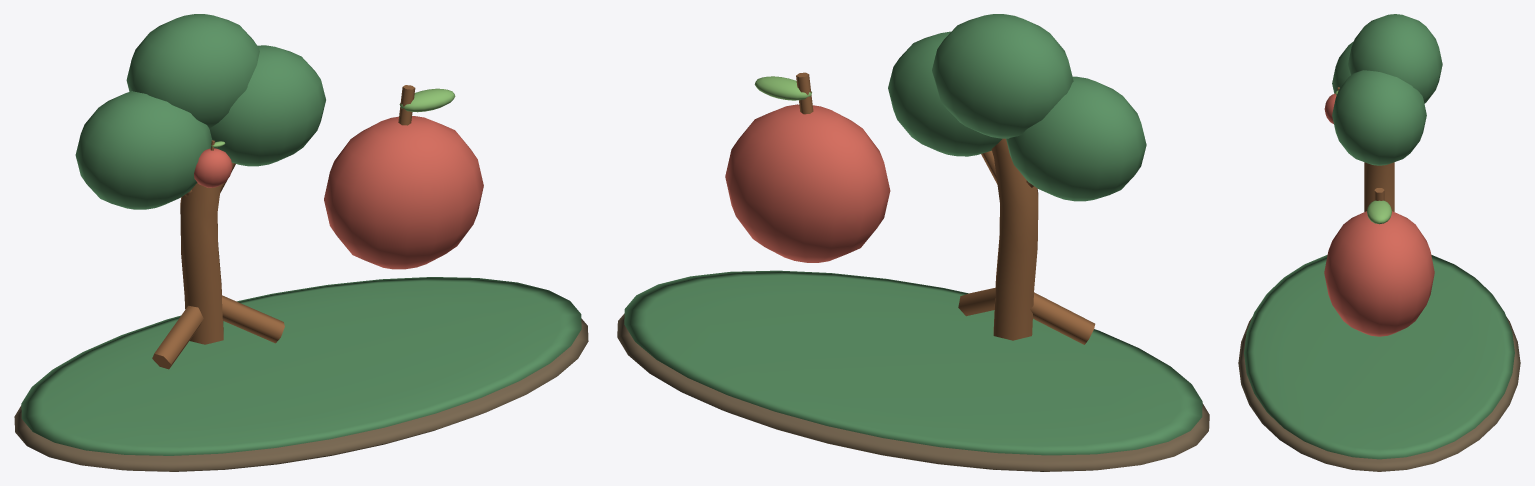
File: apple-fruit.glb
3 views of the same model, side by side, from view 1: azimuth 30°, elevation 25°; view 2: azimuth 150°, elevation 25°; view 3: azimuth 270°, elevation 25° (orthographic). The views are drawn at different scales.
Visible parts, largest first — view 1: apple-fruit_surface_01, apple-fruit_surface_03, apple-fruit_surface_00, apple-fruit_surface_02, apple-fruit_surface_04; view 2: apple-fruit_surface_01, apple-fruit_surface_03, apple-fruit_surface_00, apple-fruit_surface_02, apple-fruit_surface_04; view 3: apple-fruit_surface_01, apple-fruit_surface_03, apple-fruit_surface_00, apple-fruit_surface_02, apple-fruit_surface_04.
Boxes of the visible parts, box(x1,y1,x2,y2) form: apple-fruit_surface_01: box(21, 14, 581, 455); apple-fruit_surface_03: box(194, 116, 483, 269); apple-fruit_surface_00: box(14, 318, 588, 471); apple-fruit_surface_02: box(152, 85, 415, 369); apple-fruit_surface_04: box(211, 88, 455, 147); apple-fruit_surface_01: box(624, 14, 1202, 455); apple-fruit_surface_03: box(725, 104, 890, 262); apple-fruit_surface_00: box(617, 313, 1209, 471); apple-fruit_surface_02: box(796, 72, 1095, 344); apple-fruit_surface_04: box(754, 76, 811, 100); apple-fruit_surface_01: box(1244, 14, 1514, 459); apple-fruit_surface_03: box(1324, 93, 1434, 336); apple-fruit_surface_00: box(1238, 317, 1520, 471); apple-fruit_surface_02: box(1337, 87, 1394, 211); apple-fruit_surface_04: box(1335, 90, 1391, 224).
Bounding box in the file's own units: 4.56 × 3.11 × 2.5.
